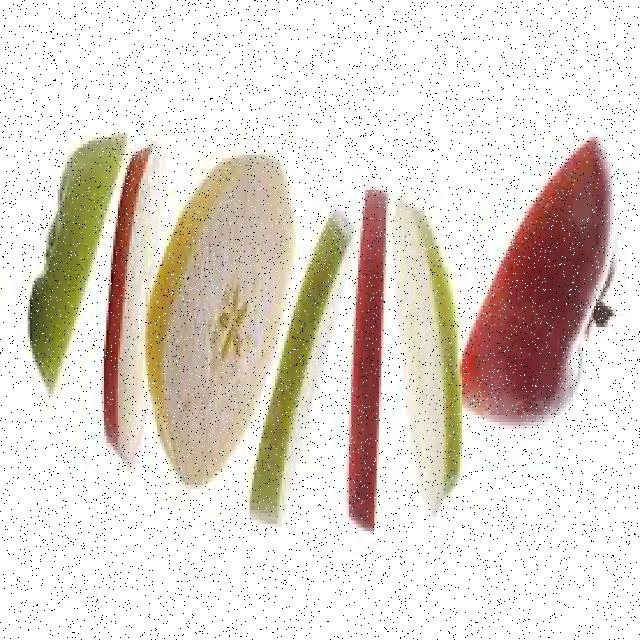Apple: (158, 141, 291, 503), (461, 137, 615, 430), (254, 219, 351, 548), (22, 110, 118, 401), (94, 142, 171, 465), (336, 187, 400, 538), (404, 168, 462, 536)
